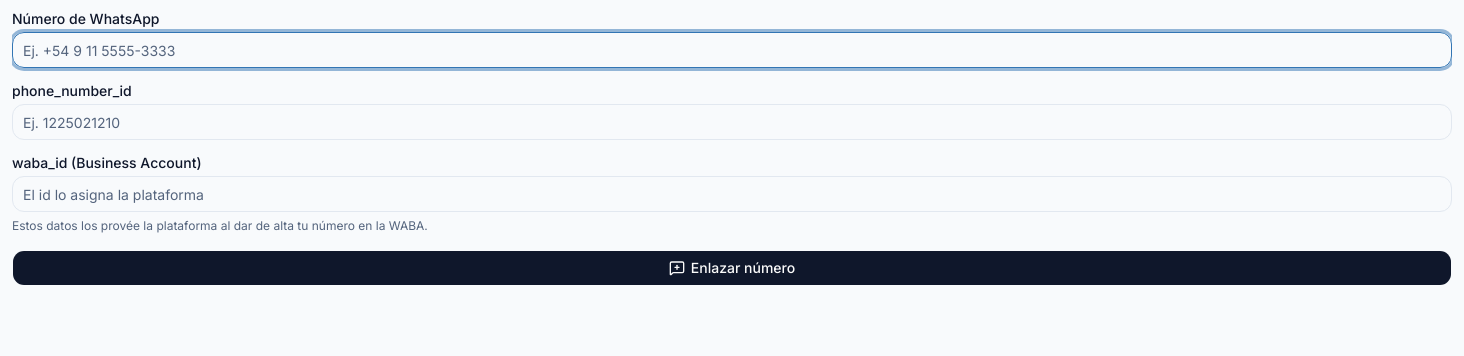
Scenario: WhatsAppLinkForm › muestra el error de la acción en un alert
Type "+54 9 11 5555-3333" into the field labelled "Número de WhatsApp" at (732, 50), box x1=12 y1=32 x2=1452 y2=68
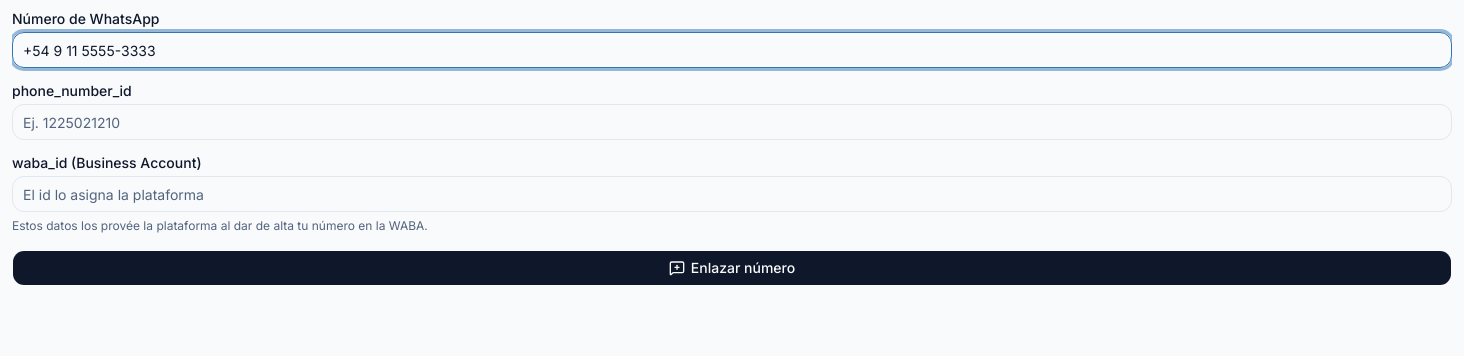
Type "1225021210" into the field labelled "phone_number_id" at (732, 122), box x1=12 y1=104 x2=1452 y2=140
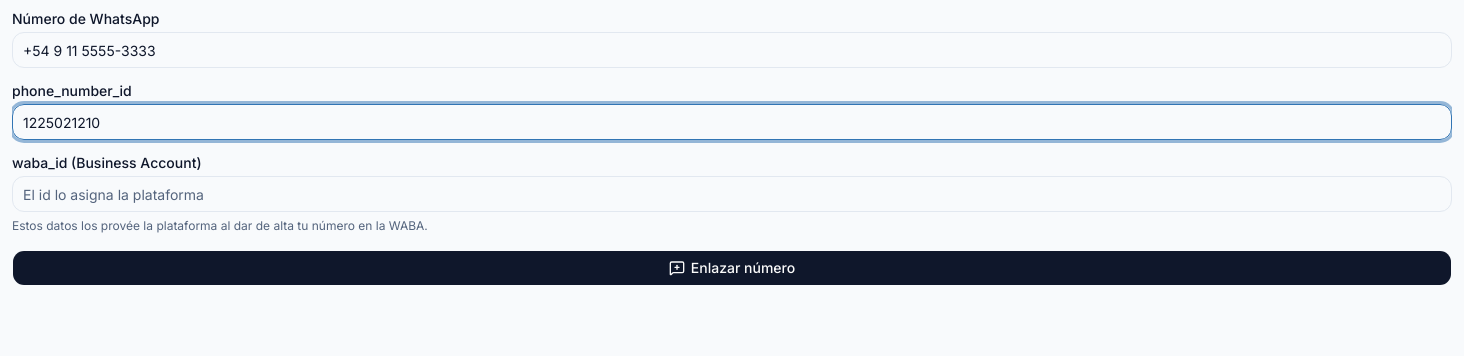
Type "4484505135201243" into the field labelled "waba_id (Business Account)" at (732, 194), box x1=12 y1=176 x2=1452 y2=212
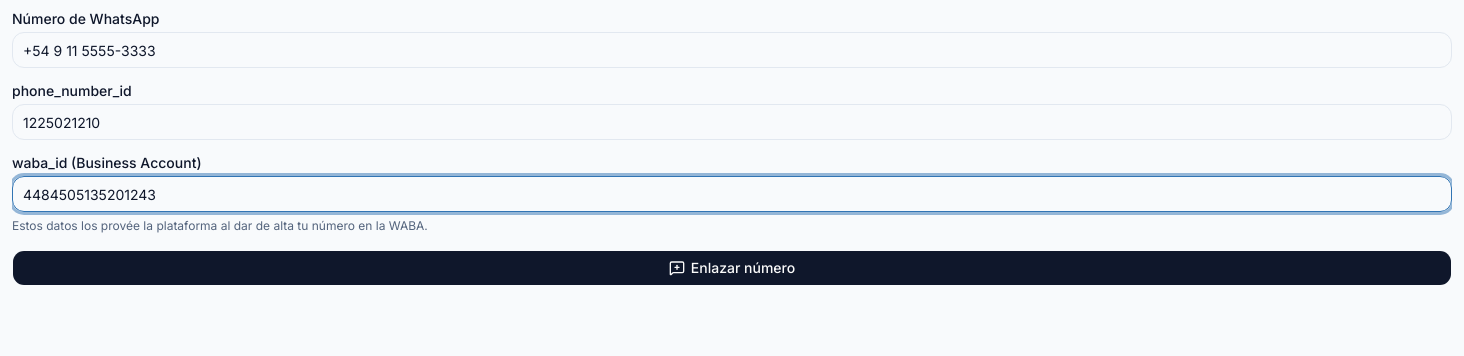
Click the button "Enlazar número" at (732, 268), box x1=12 y1=250 x2=1452 y2=286
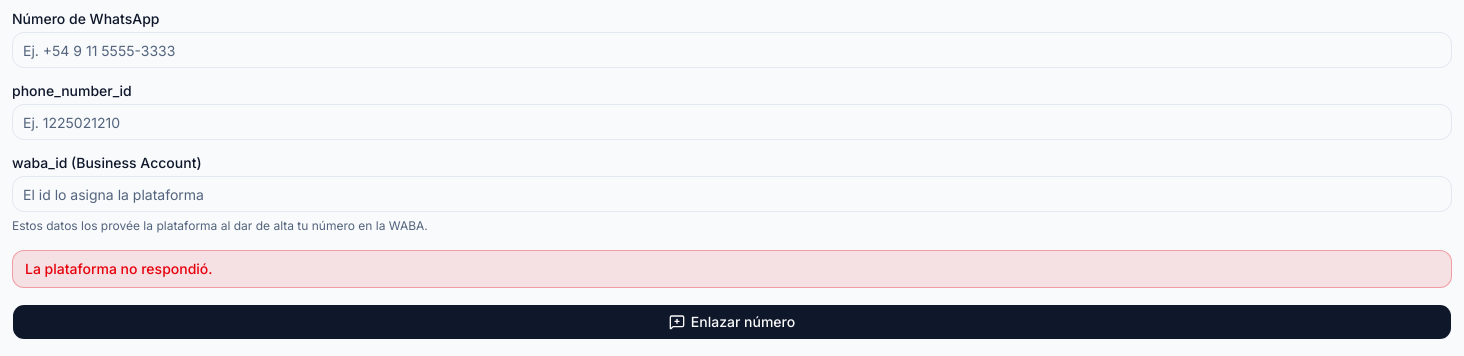
Now the message reads "La plataforma no respondió.", box x1=25 y1=260 x2=213 y2=277
